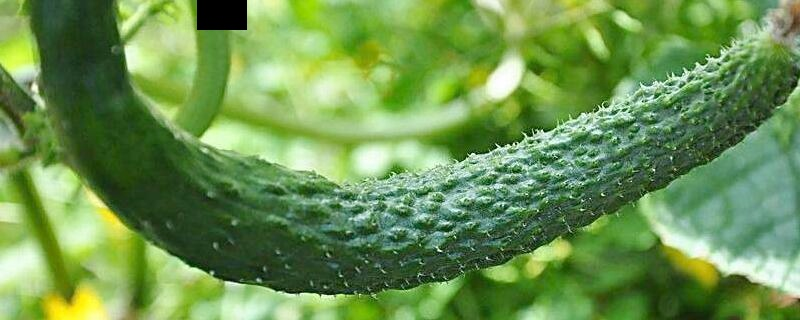cucumber: (49, 10, 792, 292)
